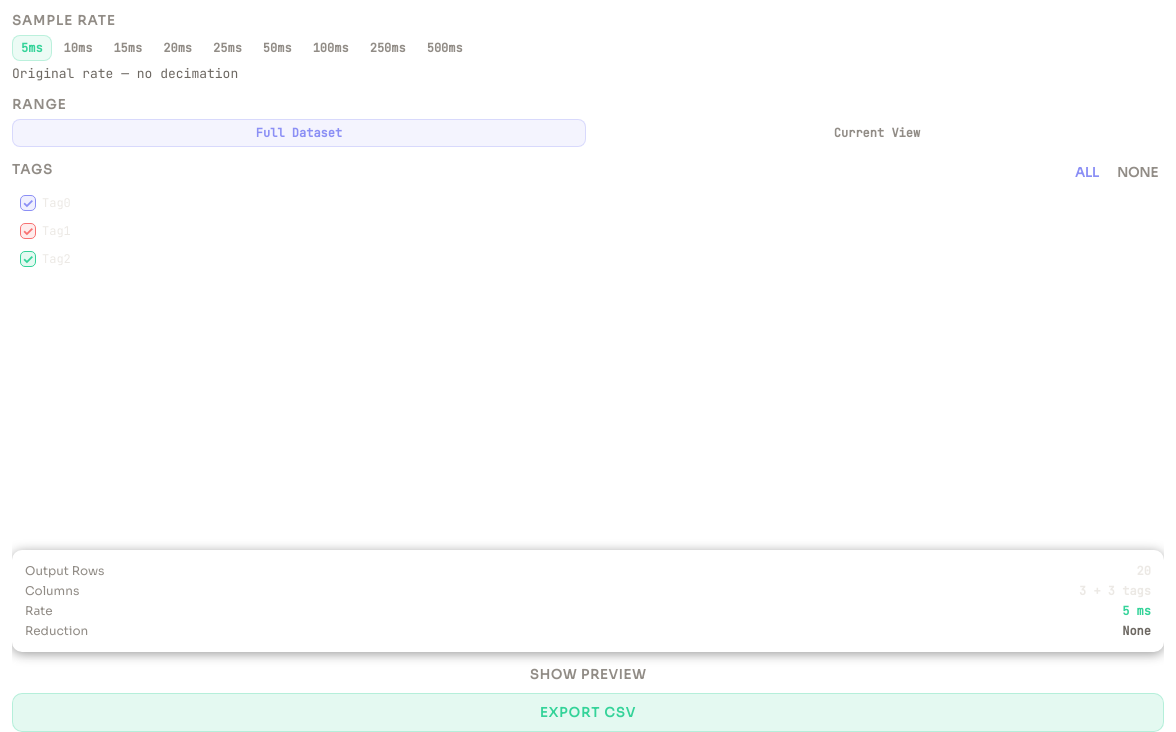
Test case: ExportPanel › ALL re-selects all signals after NONE
Click the button "NONE".
click(1137, 172)  # box [1111,163,1164,182]
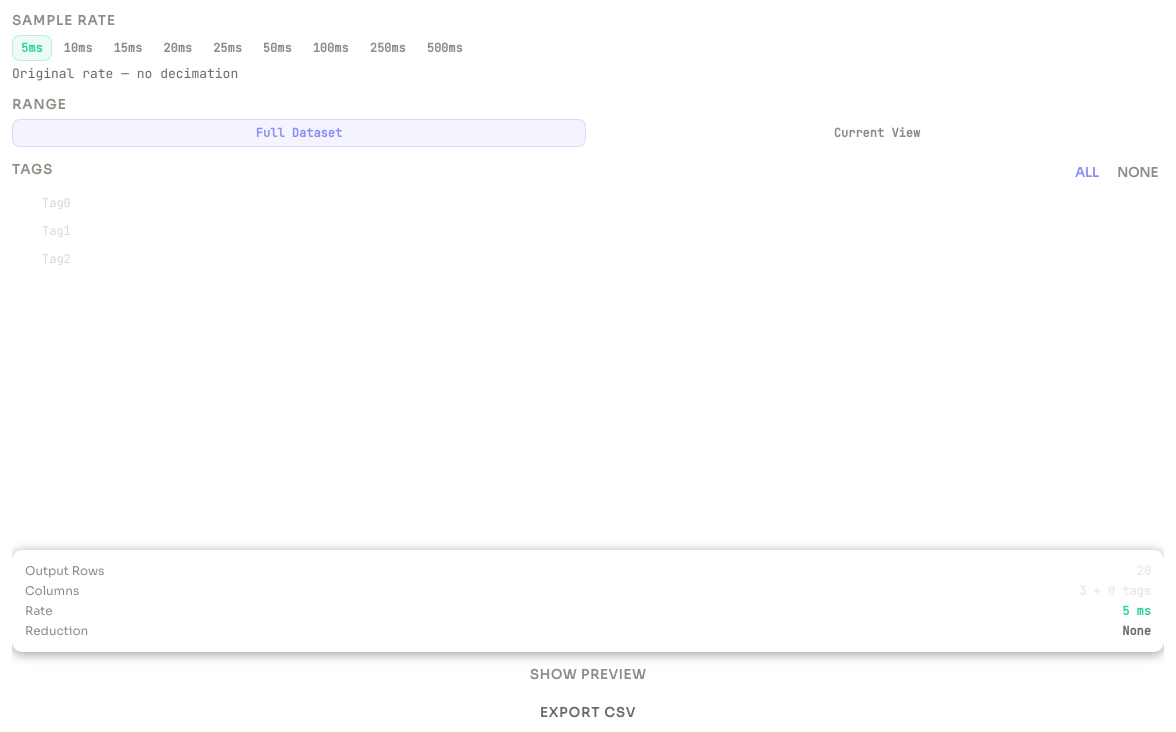
Click the button "ALL".
click(1087, 172)  # box [1069,163,1105,182]
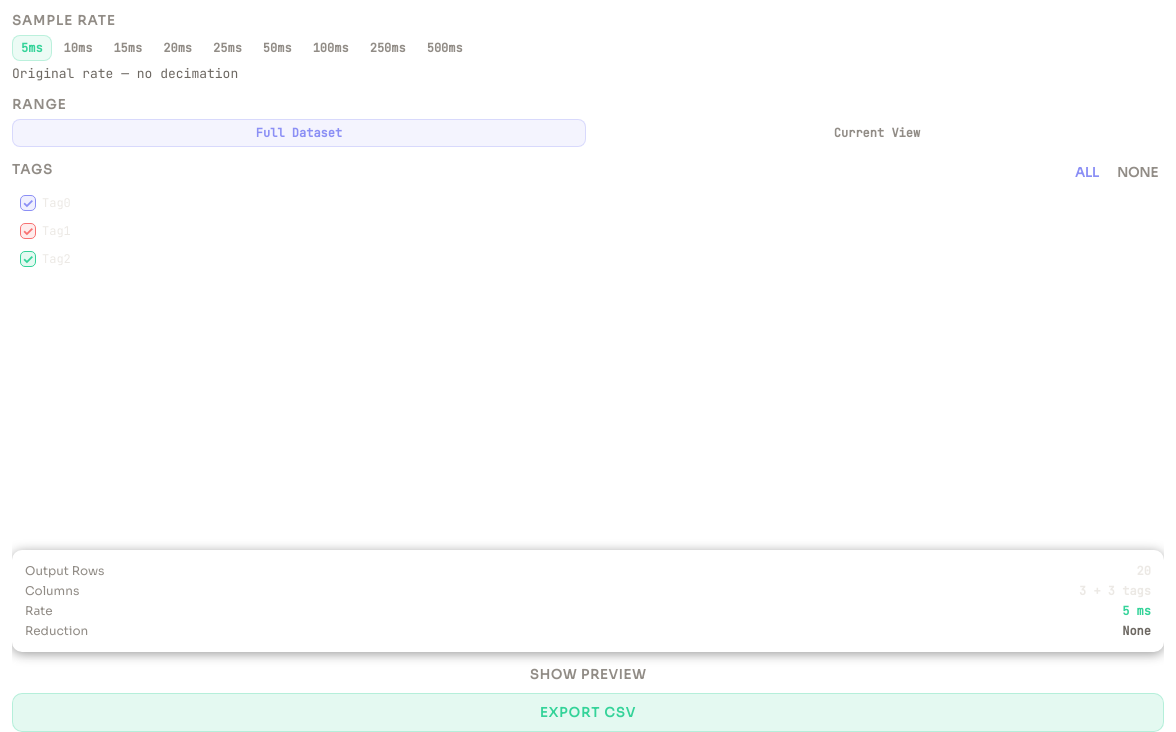
Result: the button "EXPORT CSV" is enabled at [12,693,1164,731]
